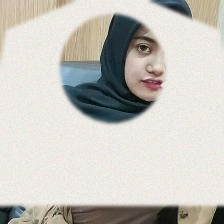Mukena: (0, 0, 224, 205)
